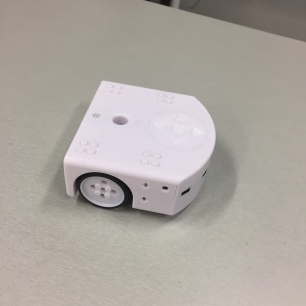thymio: (49, 69, 232, 225)
